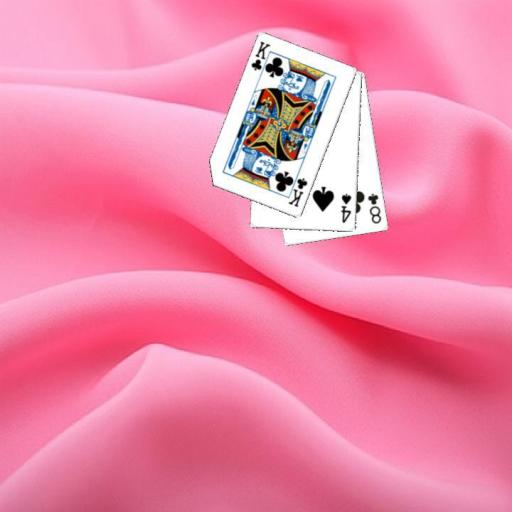4S: (338, 191, 353, 225)
8C: (365, 191, 383, 226)
KC: (248, 39, 273, 79), (285, 170, 309, 209)
